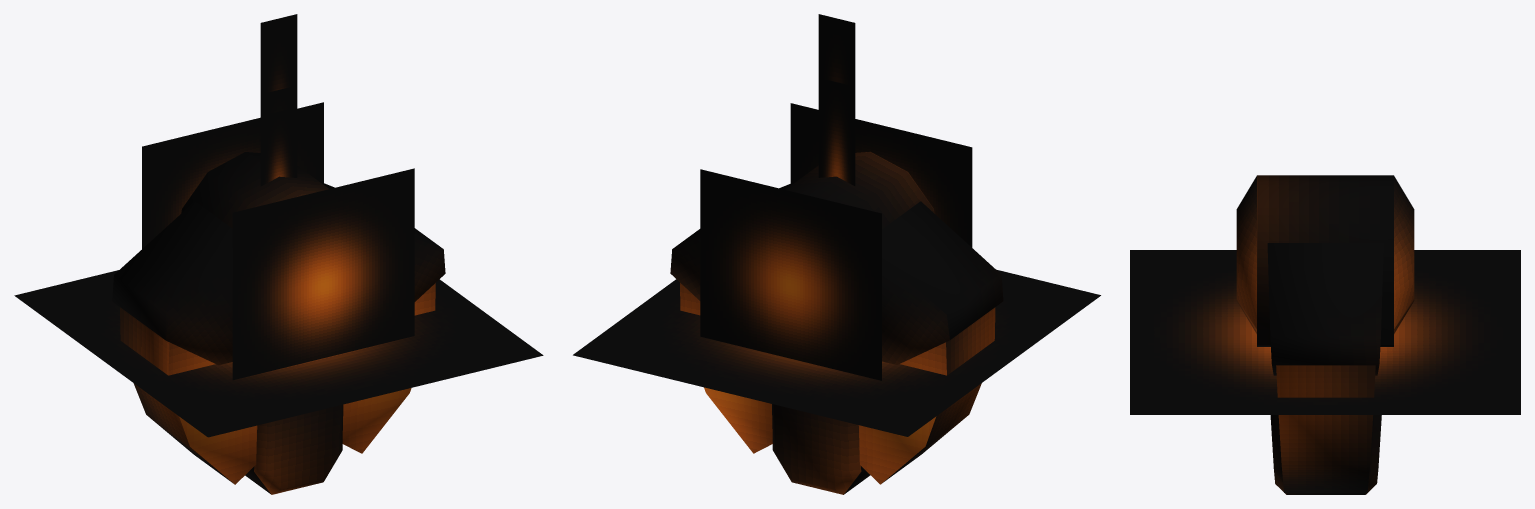
The model's file is datan_common_D_allinone_acb022b9.obj.
3 renders of one model, left to right at view 1: azimuth 30°, elevation 25°; view 2: azimuth 150°, elevation 25°; view 3: azimuth 270°, elevation 25°, orthographic.
Visible parts, largest first — view 1: datan_common_D_allinone_acb022b9_mesh01, datan_common_D_allinone_acb022b9_mesh00, datan_common_D_allinone_acb022b9_mesh03, datan_common_D_allinone_acb022b9_mesh02, datan_common_D_allinone_acb022b9_mesh04, datan_common_D_allinone_acb022b9_mesh06, datan_common_D_allinone_acb022b9_mesh11; view 2: datan_common_D_allinone_acb022b9_mesh01, datan_common_D_allinone_acb022b9_mesh02, datan_common_D_allinone_acb022b9_mesh03, datan_common_D_allinone_acb022b9_mesh00, datan_common_D_allinone_acb022b9_mesh08, datan_common_D_allinone_acb022b9_mesh10; view 3: datan_common_D_allinone_acb022b9_mesh03, datan_common_D_allinone_acb022b9_mesh01.
Part boxes in pixels (x1=…): datan_common_D_allinone_acb022b9_mesh01: x1=112, y1=152, x2=445, y2=494; datan_common_D_allinone_acb022b9_mesh00: x1=232, y1=168, x2=414, y2=380; datan_common_D_allinone_acb022b9_mesh03: x1=14, y1=270, x2=543, y2=437; datan_common_D_allinone_acb022b9_mesh02: x1=142, y1=102, x2=323, y2=248; datan_common_D_allinone_acb022b9_mesh04: x1=260, y1=107, x2=297, y2=186; datan_common_D_allinone_acb022b9_mesh06: x1=260, y1=29, x2=297, y2=94; datan_common_D_allinone_acb022b9_mesh11: x1=260, y1=87, x2=297, y2=115; datan_common_D_allinone_acb022b9_mesh01: x1=670, y1=151, x2=1003, y2=494; datan_common_D_allinone_acb022b9_mesh02: x1=700, y1=169, x2=881, y2=380; datan_common_D_allinone_acb022b9_mesh03: x1=573, y1=269, x2=1100, y2=436; datan_common_D_allinone_acb022b9_mesh00: x1=790, y1=103, x2=972, y2=247; datan_common_D_allinone_acb022b9_mesh08: x1=818, y1=78, x2=855, y2=185; datan_common_D_allinone_acb022b9_mesh10: x1=818, y1=22, x2=855, y2=86; datan_common_D_allinone_acb022b9_mesh03: x1=1130, y1=250, x2=1520, y2=414; datan_common_D_allinone_acb022b9_mesh01: x1=1236, y1=175, x2=1414, y2=494.
Size of the model in its own units: 2.8 by 3.63 by 2.8.
1 material, 1 textured.
